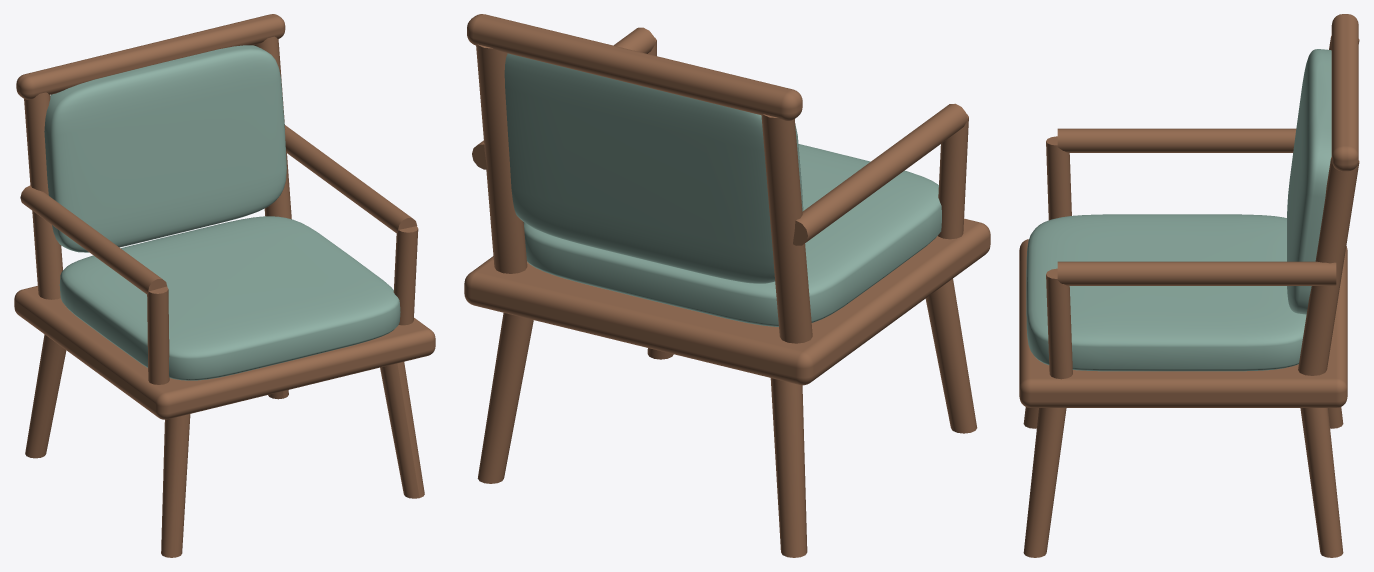
File: loungechair.glb
3 views of the same model, side by side, from view 1: azimuth 30°, elevation 25°; view 2: azimuth 150°, elevation 25°; view 3: azimuth 270°, elevation 25° (orthographic). The views are drawn at different scales.
Visible parts, largest first — view 1: reclined-back-cushion, seat-cushion-1, open-seat-frame, exposed-back-rail, rear-back-post--1, open-timber-arm--1, open-timber-arm-1, lounge-leg--1-1, lounge-leg-1-1, lounge-leg--1--1, front-arm-post--1, front-arm-post-1 (+1 smaller); view 2: reclined-back-cushion, open-seat-frame, seat-cushion-1, exposed-back-rail, rear-back-post--1, rear-back-post-1, open-timber-arm--1, lounge-leg--1--1, lounge-leg-1--1, lounge-leg--1-1, front-arm-post--1, open-timber-arm-1; view 3: seat-cushion-1, open-seat-frame, reclined-back-cushion, open-timber-arm-1, open-timber-arm--1, rear-back-post-1, exposed-back-rail, lounge-leg-1--1, lounge-leg-1-1, front-arm-post-1, front-arm-post--1.
Part boxes in pixels (left/top/right/bottom): reclined-back-cushion: left=44, top=45, right=286, bottom=252; seat-cushion-1: left=59, top=216, right=400, bottom=380; open-seat-frame: left=14, top=286, right=435, bottom=419; exposed-back-rail: left=16, top=14, right=285, bottom=99; rear-back-post--1: left=24, top=92, right=62, bottom=299; open-timber-arm--1: left=20, top=185, right=167, bottom=294; open-timber-arm-1: left=285, top=125, right=417, bottom=233; lounge-leg--1-1: left=161, top=414, right=190, bottom=557; lounge-leg-1-1: left=380, top=362, right=424, bottom=498; lounge-leg--1--1: left=25, top=334, right=66, bottom=458; front-arm-post--1: left=147, top=286, right=169, bottom=384; front-arm-post-1: left=393, top=226, right=418, bottom=325; reclined-back-cushion: left=504, top=53, right=803, bottom=283; open-seat-frame: left=464, top=218, right=990, bottom=385; seat-cushion-1: left=523, top=144, right=941, bottom=326; exposed-back-rail: left=467, top=14, right=802, bottom=121; rear-back-post--1: left=761, top=114, right=812, bottom=343; rear-back-post-1: left=476, top=44, right=527, bottom=273; open-timber-arm--1: left=793, top=103, right=967, bottom=245; lounge-leg--1--1: left=770, top=378, right=807, bottom=557; lounge-leg-1--1: left=477, top=313, right=533, bottom=483; lounge-leg--1-1: left=925, top=279, right=977, bottom=433; front-arm-post--1: left=938, top=114, right=968, bottom=239; open-timber-arm-1: left=472, top=27, right=655, bottom=169; seat-cushion-1: left=1026, top=214, right=1306, bottom=371; open-seat-frame: left=1019, top=239, right=1347, bottom=407; reclined-back-cushion: left=1287, top=49, right=1331, bottom=314; open-timber-arm-1: left=1057, top=261, right=1336, bottom=285; open-timber-arm--1: left=1057, top=128, right=1296, bottom=152; rear-back-post-1: left=1298, top=157, right=1359, bottom=375; exposed-back-rail: left=1331, top=14, right=1358, bottom=171; lounge-leg-1--1: left=1300, top=408, right=1343, bottom=557; lounge-leg-1-1: left=1023, top=408, right=1066, bottom=557; front-arm-post-1: left=1046, top=268, right=1072, bottom=379; front-arm-post--1: left=1046, top=136, right=1071, bottom=220.
Size of the model in its own units: 0.78 by 1 by 0.7567.
